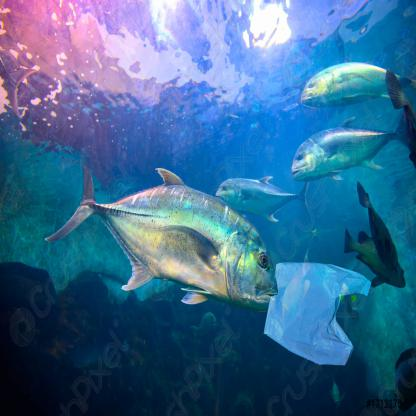plastic-bag: (262, 258, 372, 368)
